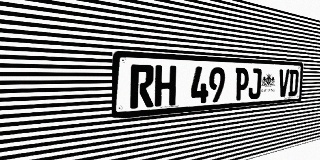4: (190, 66, 209, 104)
9: (208, 67, 225, 103)
D: (288, 69, 299, 96)
H: (154, 65, 176, 107)
J: (248, 68, 262, 99)
P: (234, 68, 249, 101)
R: (130, 64, 154, 109)
V: (278, 69, 289, 97)
